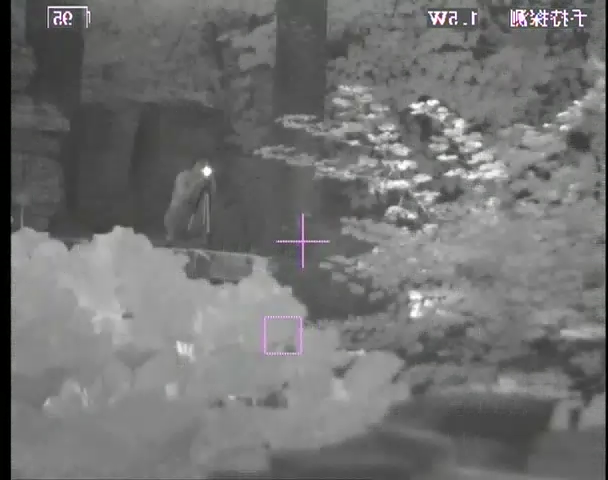my: (200, 166, 215, 178)
